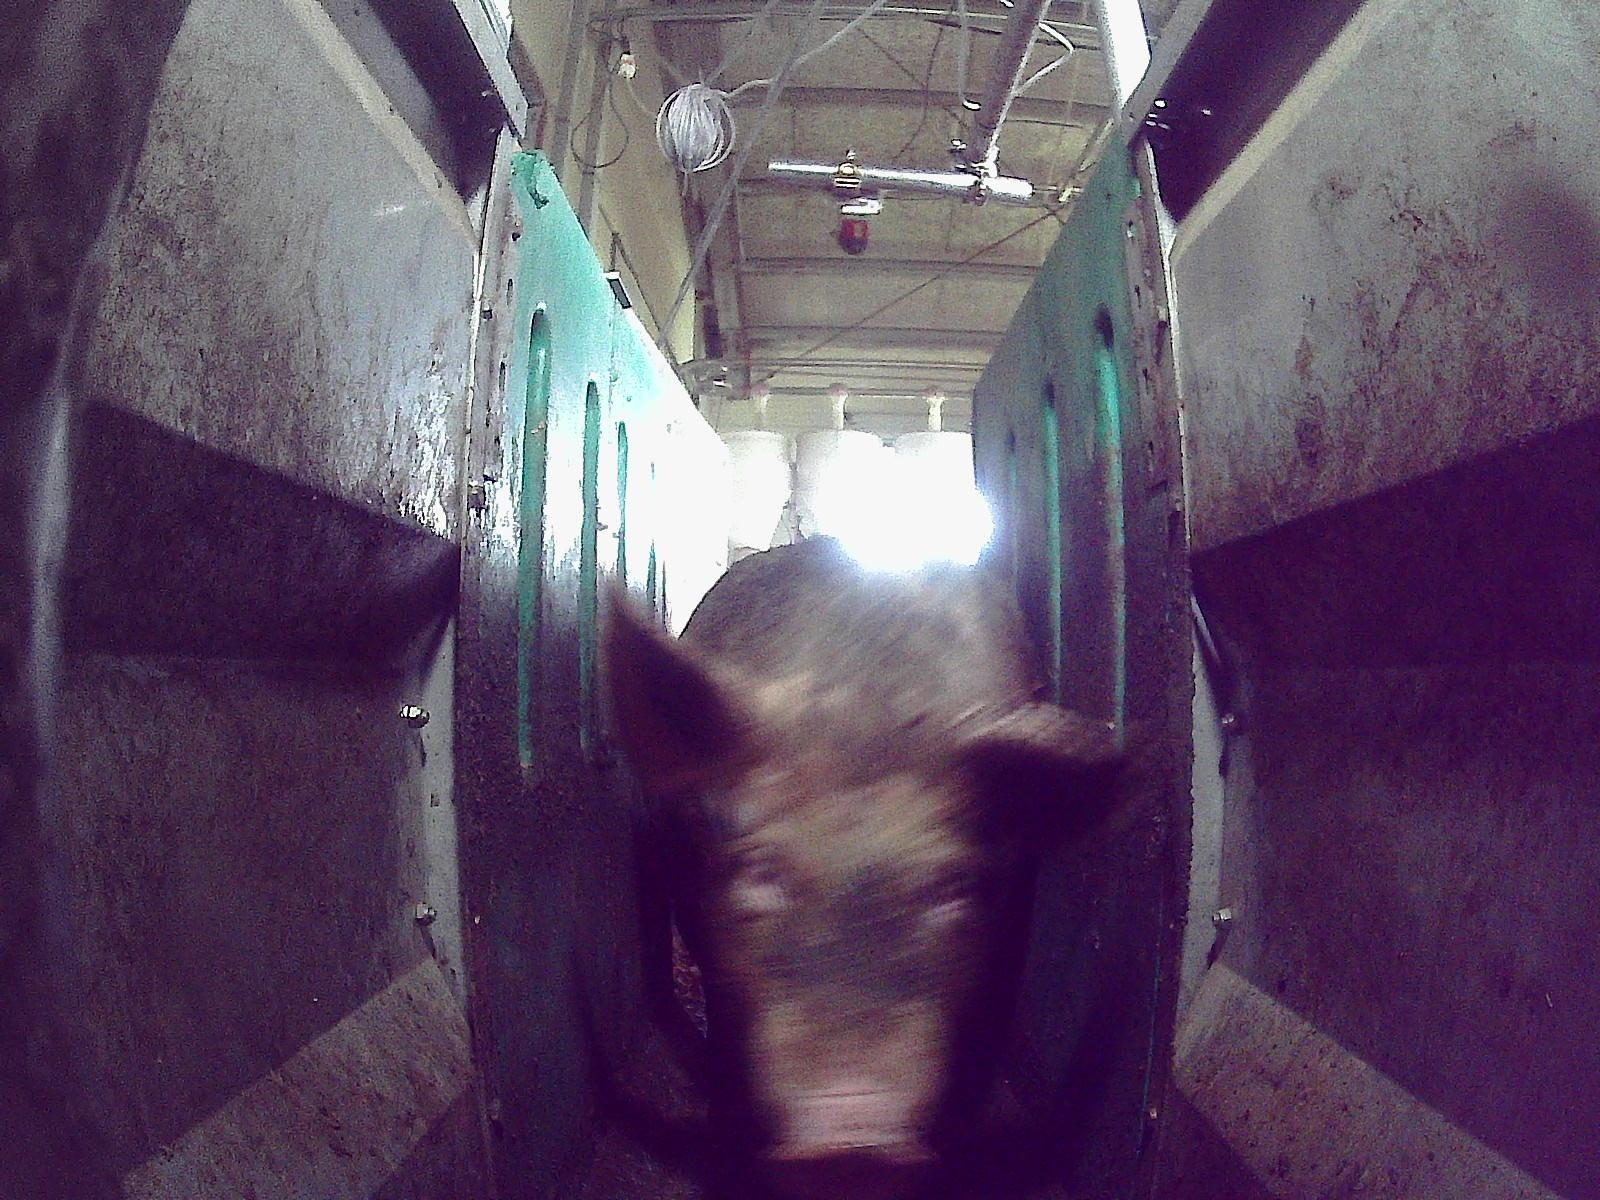Face: (697, 688, 1001, 1199)
